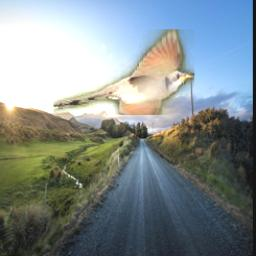Cuckoo: (52, 30, 193, 116)
